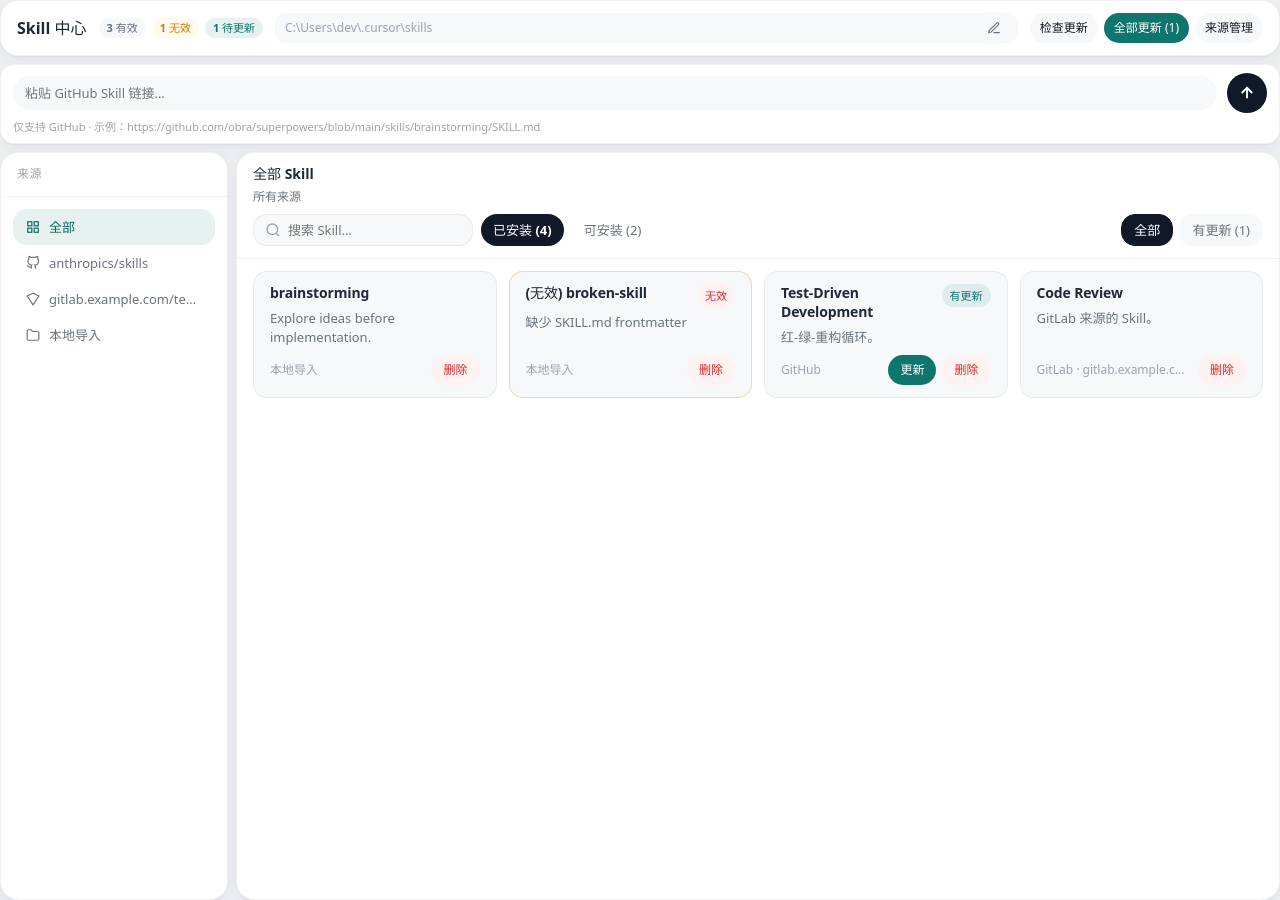
it: SkillHubPage › filters discover skills by GitLab repo node in source tree
Click the tab "可安装 (2)".
click(612, 230)  # box [572,214,653,246]
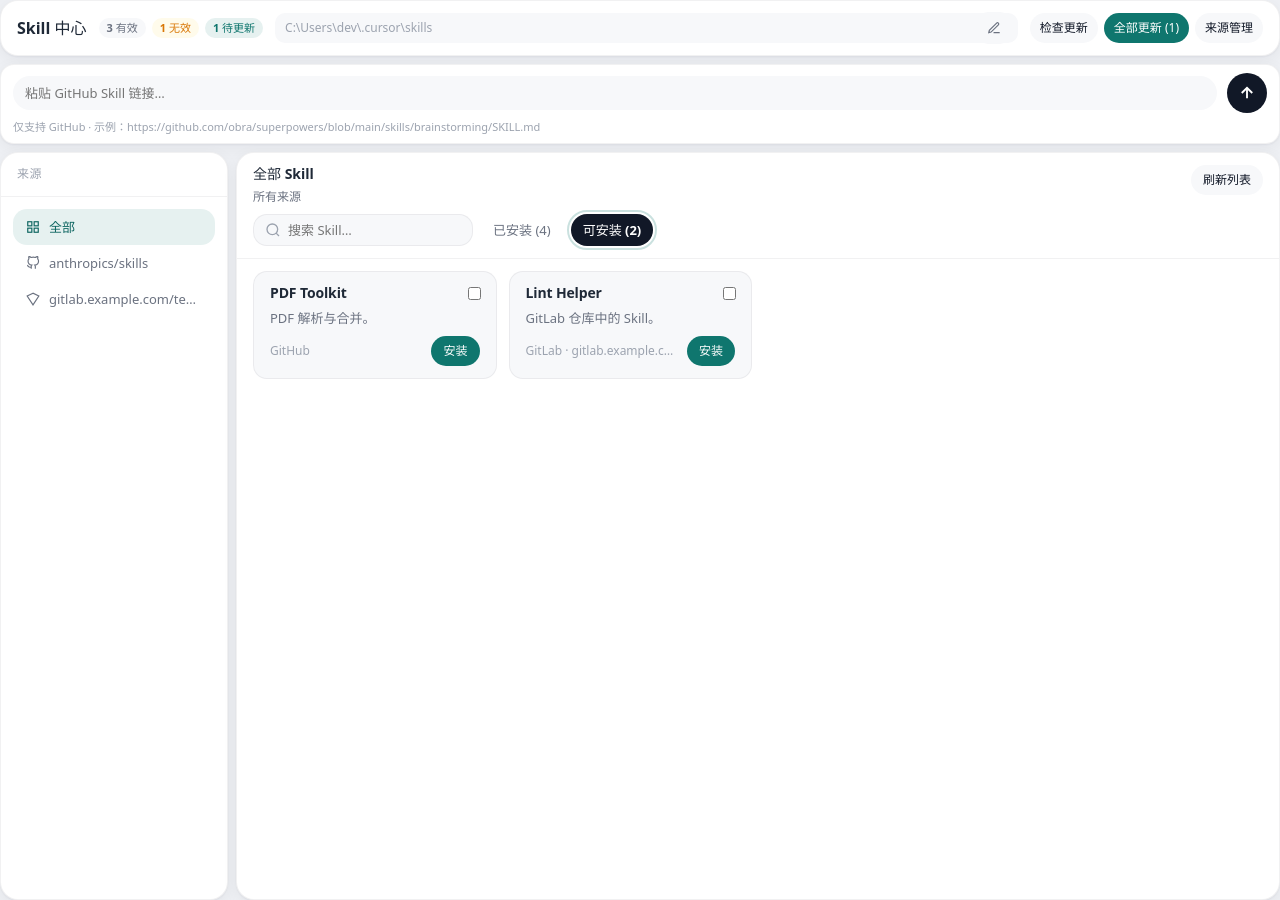
Click the list item "gitlab.example.com/team/skills".
click(133, 299)  # box [26,290,240,308]
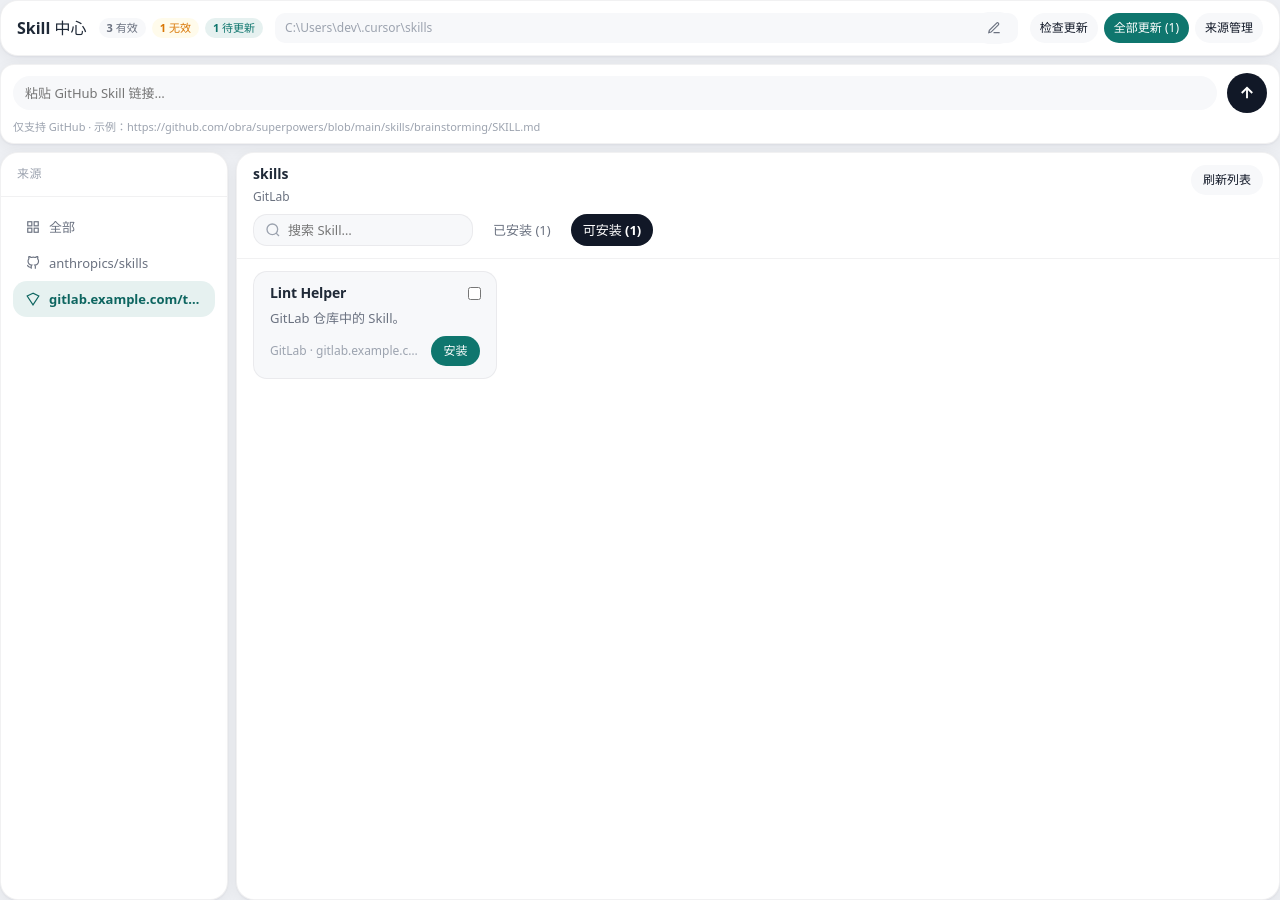
Check: the text "GitLab 仓库中的 Skill。" is shown, box [270,309,406,327]
Check: the text "PDF 解析与合并。" is gone
